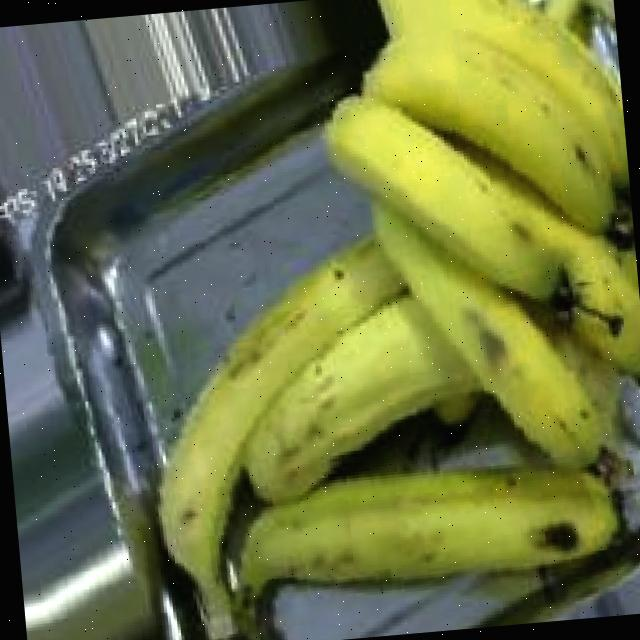banana: (305, 44, 612, 358)
